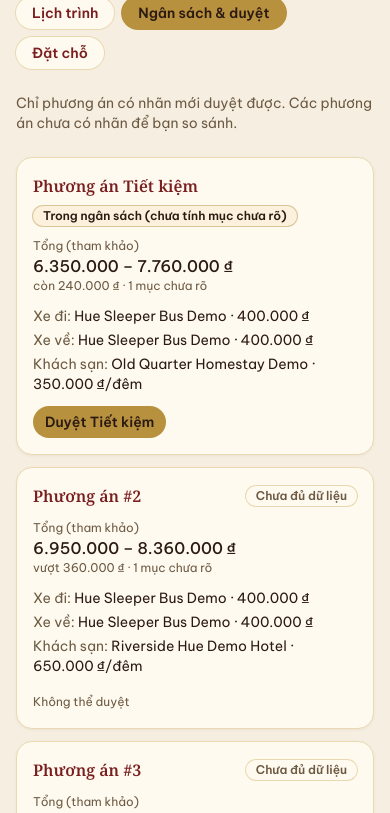
Scenario: budget tab › approves the labelled option with the plan version and then shows the quote
(page scrolled)
Click the button "Duyệt Tiết kiệm".
click(100, 422)  # box top-left (33, 406), bottom-right (166, 438)
(page scrolled)
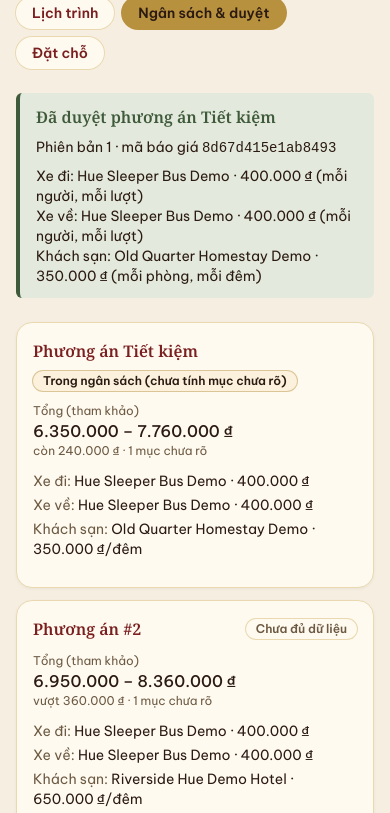
Expected: the heading "Đã duyệt phương án Tiết kiệm" is shown, top-left (36, 106), bottom-right (276, 128)
Expected: the text "Phiên bản 1 · mã báo giá 8d67d415e1ab8493" is shown, top-left (36, 137), bottom-right (358, 158)
